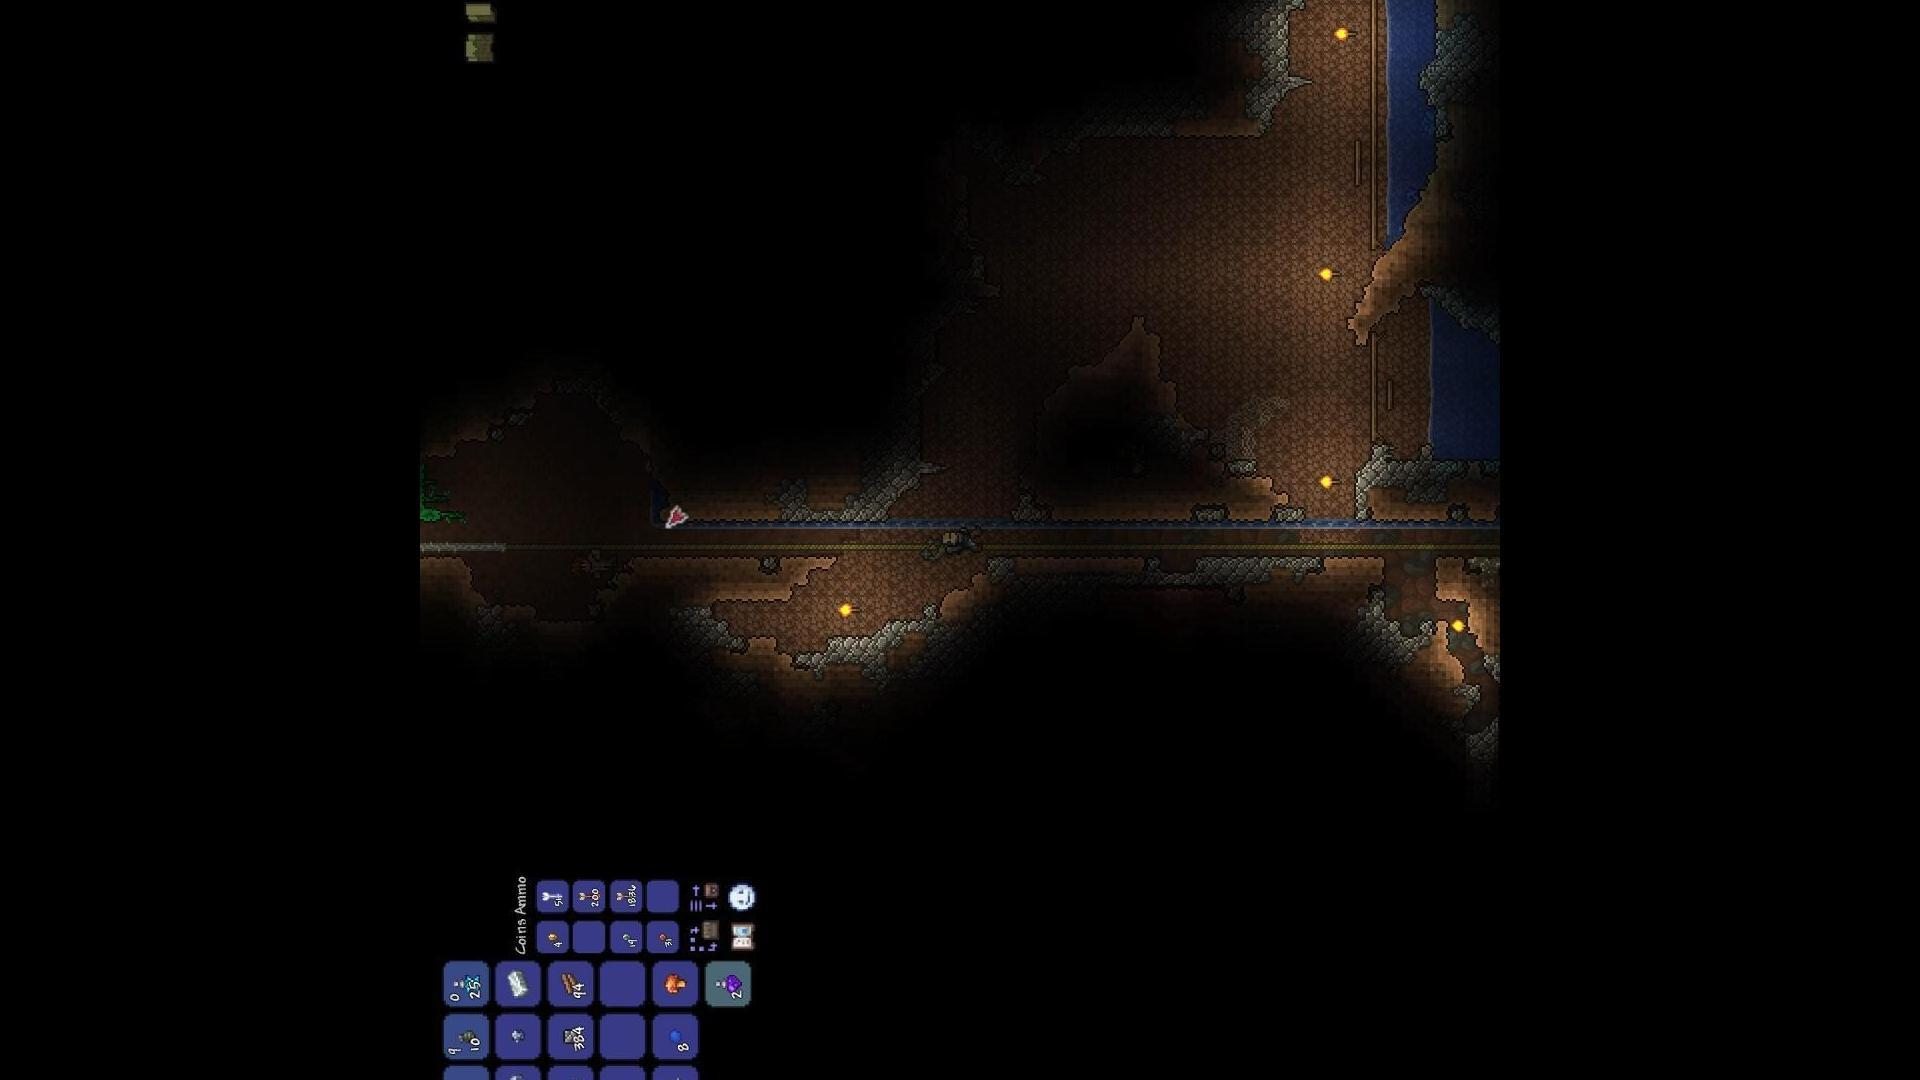gel: (665, 1025, 682, 1044)
glowstick: (556, 1076, 580, 1080)
grenade: (454, 1029, 479, 1044)
